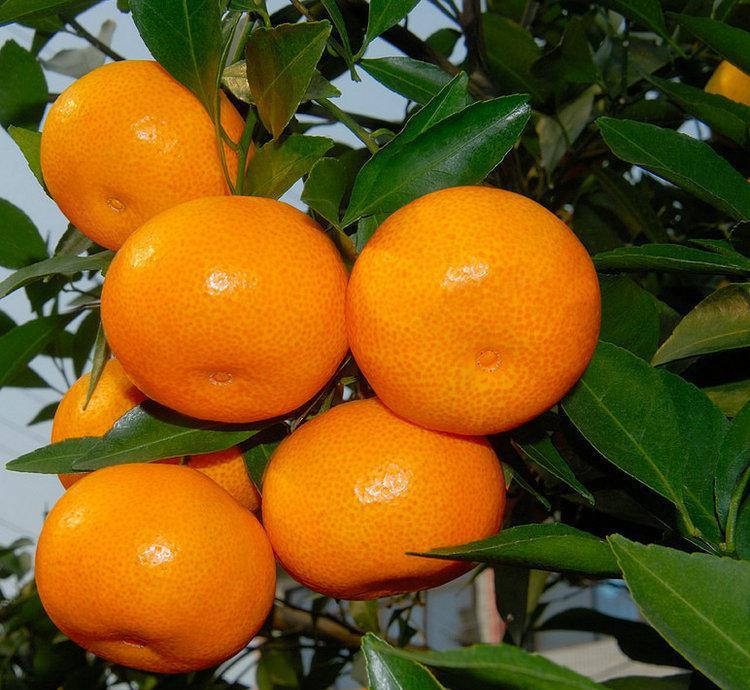orange: (345, 186, 600, 436), (100, 196, 353, 425), (34, 463, 277, 672), (260, 398, 506, 592), (37, 58, 268, 253), (51, 360, 272, 528)
